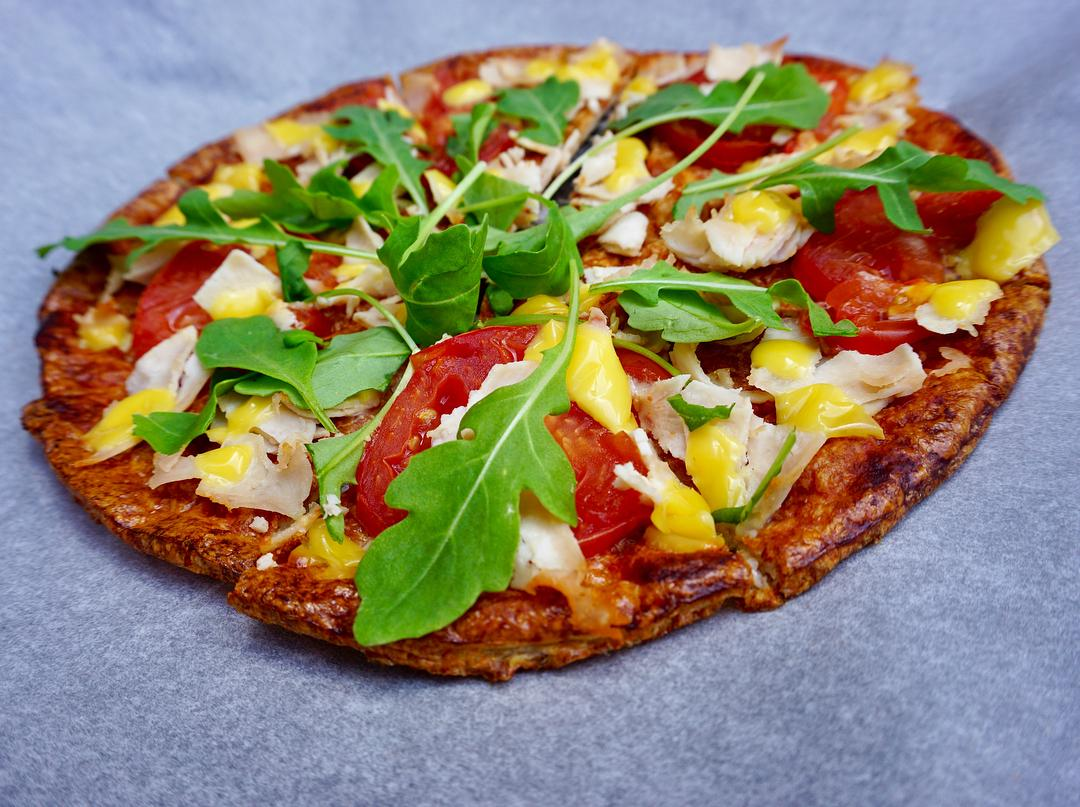Arugula: (339, 262, 579, 647), (677, 128, 1038, 233), (35, 192, 396, 269), (131, 317, 320, 448), (586, 259, 859, 346), (594, 59, 836, 135), (324, 102, 444, 237), (210, 162, 406, 244), (386, 222, 487, 356), (482, 189, 583, 312), (305, 320, 418, 409), (709, 426, 802, 528), (492, 68, 582, 154), (454, 156, 536, 244), (436, 102, 503, 180), (668, 394, 745, 432), (270, 240, 319, 297)
Pizza: (50, 40, 1051, 675)
Tomatoes: (348, 325, 540, 531), (540, 356, 679, 556), (802, 194, 932, 349), (128, 243, 238, 354), (668, 116, 783, 169)
